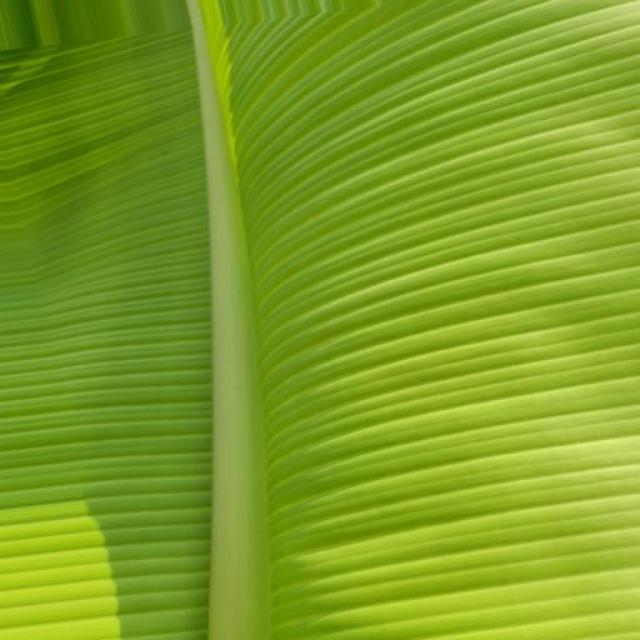Black_leaf_spot: (27, 8, 640, 568)
